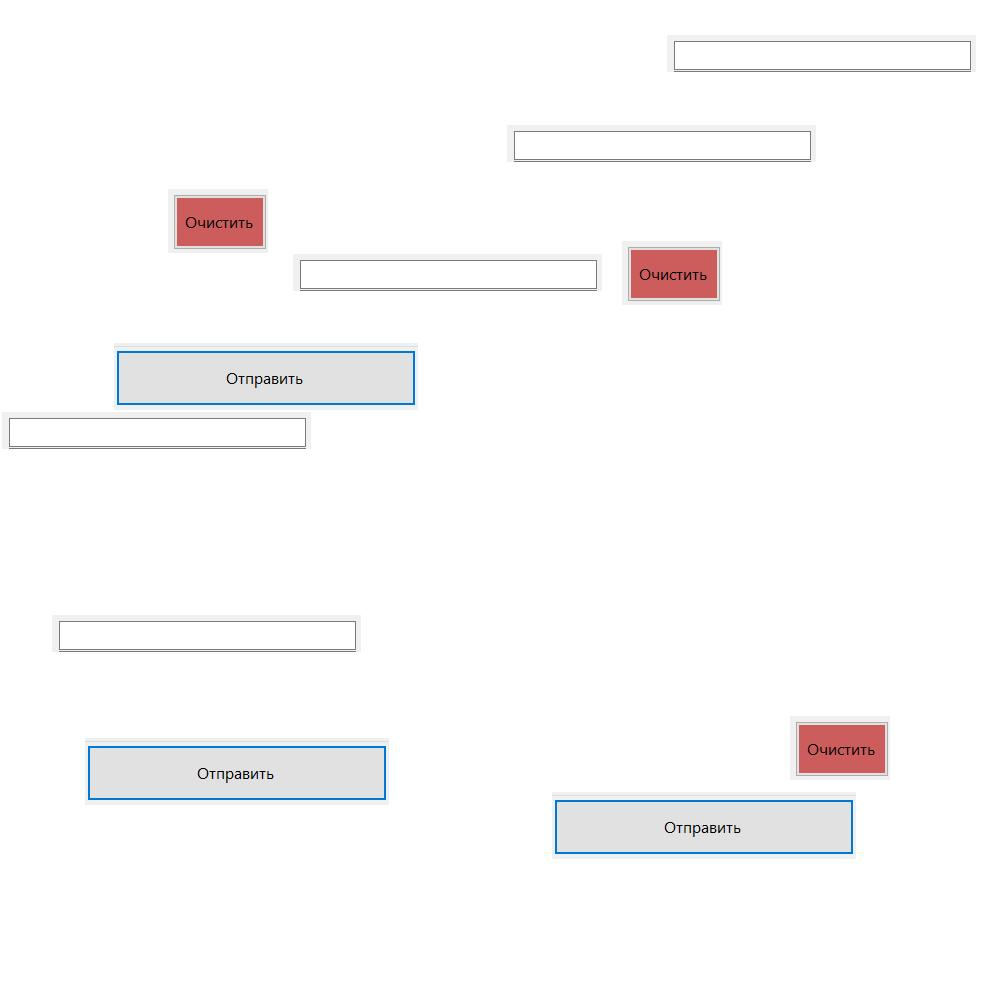Button: (85, 738, 389, 805), (114, 343, 418, 410), (552, 792, 856, 859), (168, 189, 268, 253), (622, 241, 722, 305), (790, 716, 890, 780)
EditText-: (52, 615, 361, 652), (507, 125, 816, 162), (293, 254, 602, 291), (667, 35, 976, 72), (2, 412, 311, 449)
